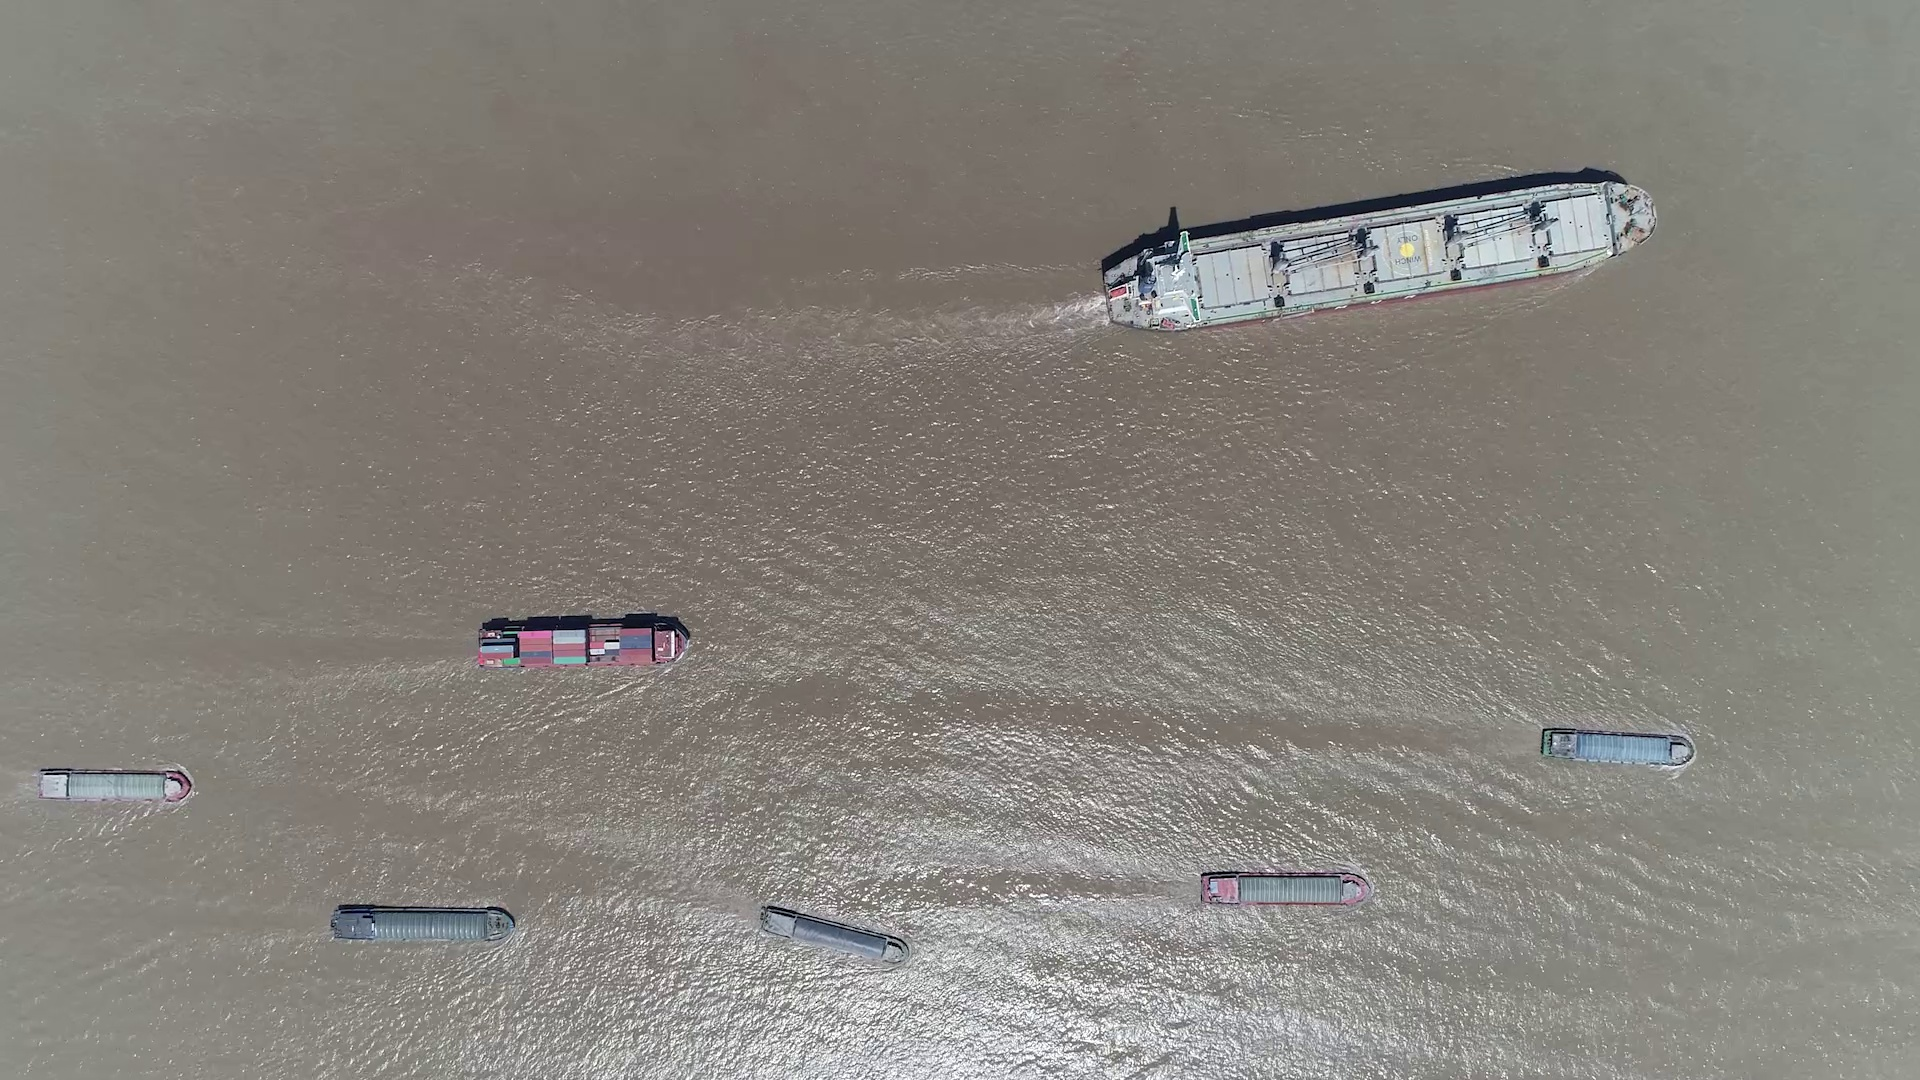ship: (1102, 181, 1655, 328), (476, 618, 690, 670), (760, 905, 909, 963), (330, 905, 513, 943), (1540, 728, 1695, 767), (1200, 872, 1369, 906), (33, 767, 189, 804)
